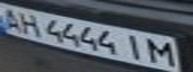4: (39, 16, 66, 43), (78, 25, 100, 52), (97, 28, 118, 56), (60, 20, 81, 47)
A: (0, 4, 27, 33)
H: (15, 9, 45, 37)
I: (121, 32, 148, 61)
M: (145, 37, 181, 67)
